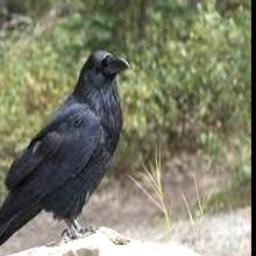Crow: (0, 50, 130, 256)
